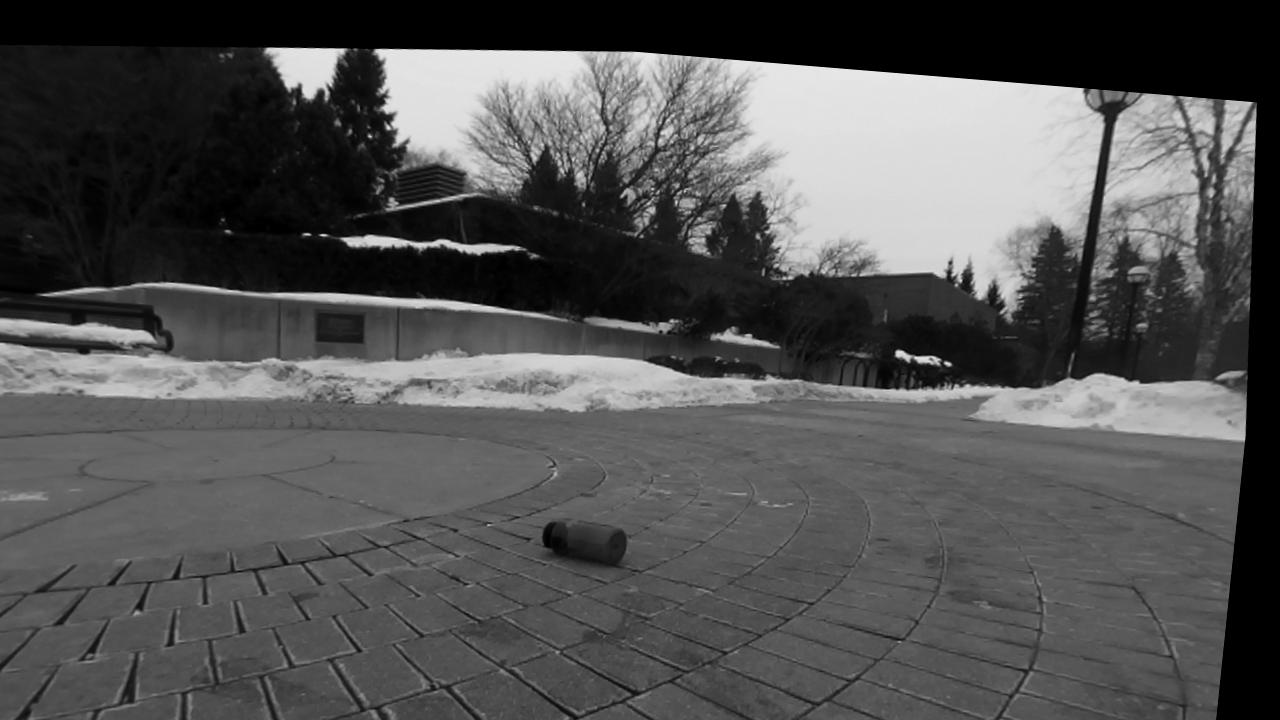bottle: (542, 519, 625, 565)
